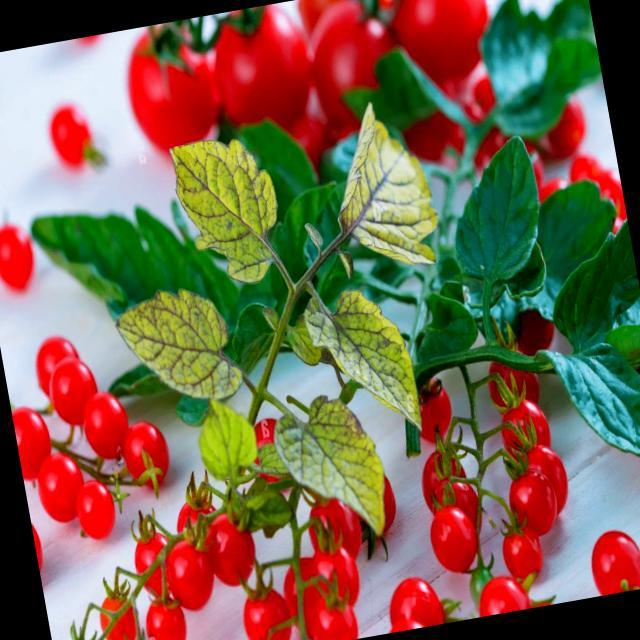Tomato healthy leaf: (436, 128, 557, 294), (526, 318, 640, 477), (538, 220, 640, 352)
Tomato yellow virus leaf: (314, 88, 447, 288), (294, 261, 430, 454), (267, 388, 399, 558), (166, 126, 292, 294), (109, 274, 248, 416), (189, 400, 264, 492)
